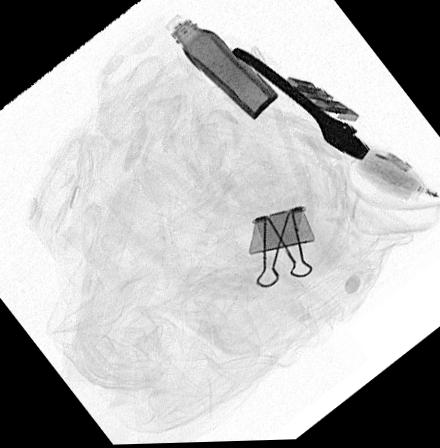Wrench: (230, 46, 372, 165)
